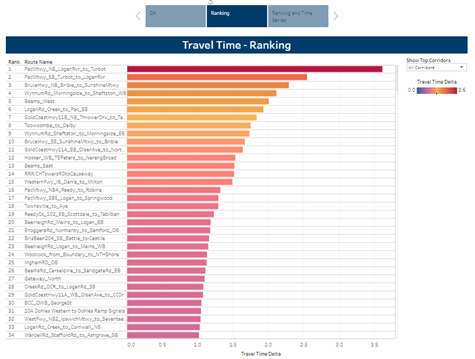

The page's visual inventory and layout, read from the dashboard file:
{"tool":"tableau","page":{"name":"Ranking Dashboard","canvas":[1169,827],"ordinal":1},"visuals":[{"type":"text","box":[8,8,1153,50]},{"type":"worksheet","title":"Ranking","mark":"Automatic","rows":["route_name"],"cols":["Calculation_520447268733718531"],"box":[8,58,993,761]},{"type":"parameter","param":"[Parameters].[Parameter 1]","box":[1001,58,160,52]},{"type":"legend","title":"Ranking","param":"[sqlproxy.0icfpck14g6erq1fguouy05v4uhw].[usr:Calculation_520447268733718531:qk]","box":[1001,110,160,65]}]}

Visuals, with their boxes on the page's 1169x827 design canvas (x1, y1, x2, y2). These are canvas units, not pixel positions in the 475x359 screenshot, which may show the page scaled, cropped or inside an application window:
text: bbox=[8, 8, 1161, 58]
"Ranking" worksheet: bbox=[8, 58, 1001, 819]
parameter: bbox=[1001, 58, 1161, 110]
"Ranking" legend: bbox=[1001, 110, 1161, 175]
